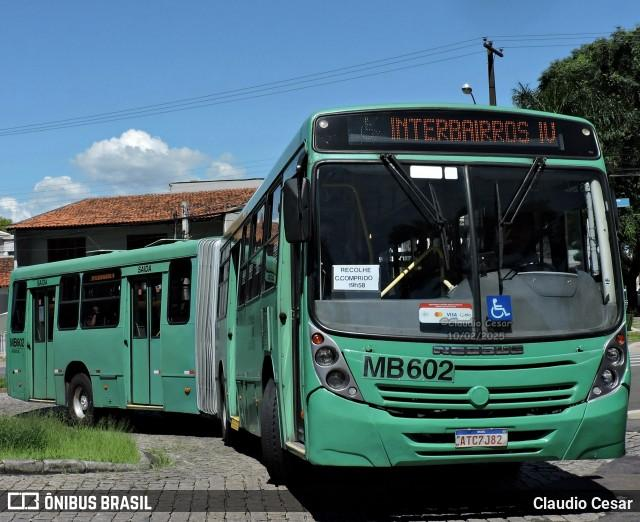INTERBAIRROS IV: (384, 112, 563, 149)
